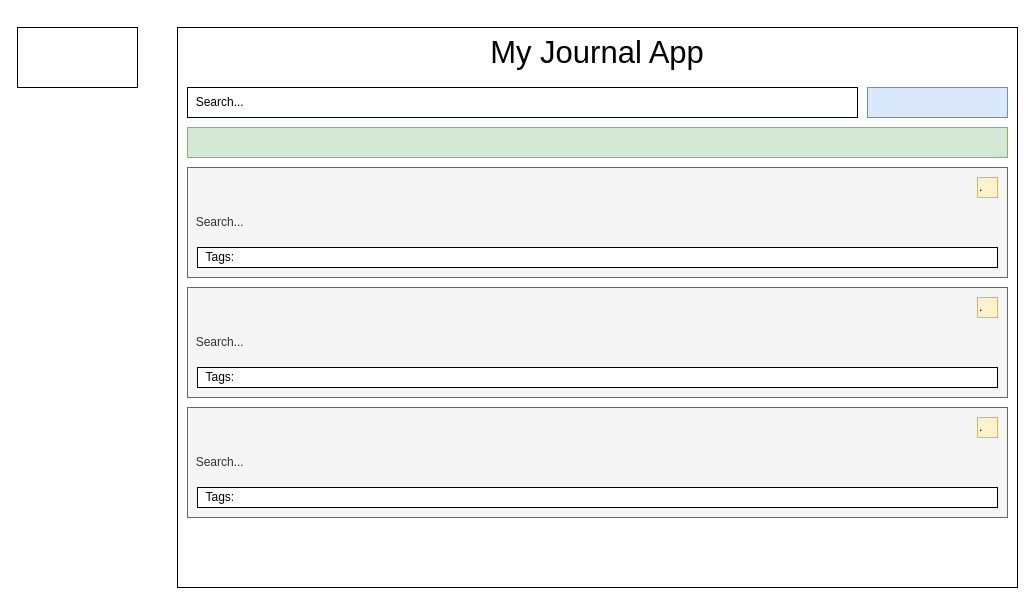
The diagram is 1035 pixels wide and 605 high, and some of its shapes have lost their labels. Here are the shapes that lost their labels. From the top down, the box of each, then its label:
(16, 26, 138, 88): MAIN
(866, 86, 1008, 118): Search
(186, 126, 1008, 158): Add Entry
